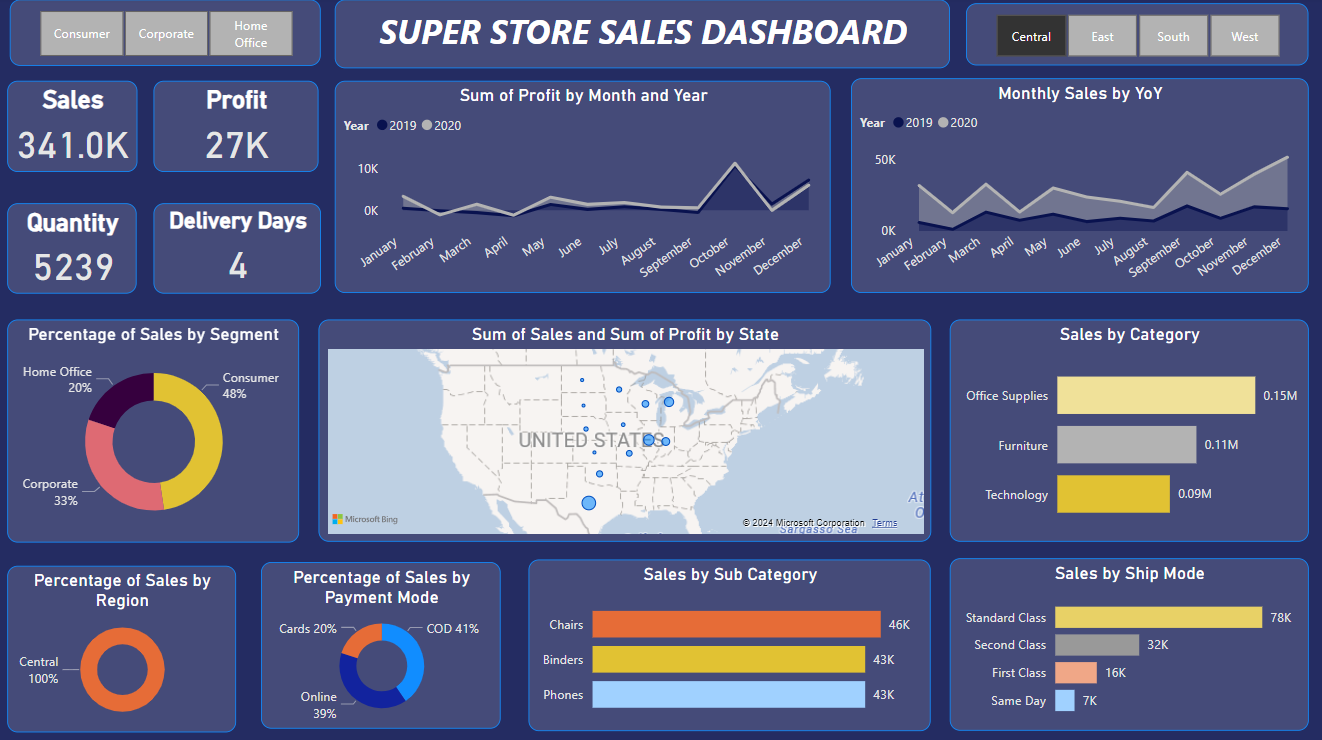

The dashboard page shown, as its layout file describes it:
{"tool":"powerbi","page":{"name":"Page 1","canvas":[1280,720],"ordinal":0},"visuals":[{"type":"clusteredBarChart","title":"Sales by Category","fields":{"Category":["SuperStore_Sales_Dataset.Category"],"Y":["Sum(SuperStore_Sales_Dataset.Sales)"]},"box":[920.2,311.2,346.1,214.7],"z":0},{"type":"clusteredBarChart","title":"Sales by Sub Category","fields":{"Category":["SuperStore_Sales_Dataset.Sub-Category"],"Y":["Sum(SuperStore_Sales_Dataset.Sales)"]},"box":[513.8,542.7,388.3,165.2],"z":1000},{"type":"clusteredBarChart","title":"Sales by Ship Mode","fields":{"Category":["SuperStore_Sales_Dataset.Ship Mode"],"Y":["Sum(SuperStore_Sales_Dataset.Sales)"]},"box":[920,541.2,346.2,166.2],"z":2000},{"type":"stackedAreaChart","title":"Monthly Sales by YoY","fields":{"Y":["Sum(SuperStore_Sales_Dataset.Sales)"],"Category":["SuperStore_Sales_Dataset.Order Date.Variation.Date Hierarchy.Month","SuperStore_Sales_Dataset.Order Date.Variation.Date Hierarchy.Day"],"Series":["SuperStore_Sales_Dataset.Order Date.Variation.Date Hierarchy.Year"]},"box":[825,78.8,441.2,207.5],"z":3000},{"type":"stackedAreaChart","fields":{"Category":["SuperStore_Sales_Dataset.Order Date.Variation.Date Hierarchy.Month","SuperStore_Sales_Dataset.Order Date.Variation.Date Hierarchy.Day"],"Series":["SuperStore_Sales_Dataset.Order Date.Variation.Date Hierarchy.Year"],"Y":["Sum(SuperStore_Sales_Dataset.Profit)"]},"box":[326.2,81.2,478.8,205],"z":4000},{"type":"map","fields":{"Category":["SuperStore_Sales_Dataset.State"],"Size":["Sum(SuperStore_Sales_Dataset.Sales)"]},"box":[311.2,311.2,591,214.7],"z":5000},{"type":"donutChart","title":"Percentage of Sales by Segment","fields":{"Category":["SuperStore_Sales_Dataset.Segment"],"Y":["Sum(SuperStore_Sales_Dataset.Sales)"]},"box":[11.2,311.2,281.2,215],"z":6000},{"type":"donutChart","title":"Percentage of Sales by Payment Mode","fields":{"Category":["SuperStore_Sales_Dataset.Payment Mode"],"Y":["Sum(SuperStore_Sales_Dataset.Sales)"]},"box":[255.7,545.1,231.6,160.4],"z":7000},{"type":"slicer","fields":{"Values":["SuperStore_Sales_Dataset.Region"]},"box":[936.2,6.2,330,60],"z":8000},{"type":"textbox","box":[326.2,2.5,593.8,66.2],"z":9000},{"type":"card","title":"Sales","fields":{"Values":["Sum(SuperStore_Sales_Dataset.Sales)"]},"box":[11.2,81.2,125,87.5],"z":10000},{"type":"card","title":"Quantity","fields":{"Values":["Sum(SuperStore_Sales_Dataset.Quantity)"]},"box":[11.2,198.8,125,87.5],"z":11000},{"type":"card","title":"Profit","fields":{"Values":["Sum(SuperStore_Sales_Dataset.Profit)"]},"box":[161.2,81.2,152.5,87.5],"z":12000},{"type":"card","title":"Delivery Days","fields":{"Values":["Avg(SuperStore_Sales_Dataset.AvgDelievery)"]},"box":[162.5,198.8,151.2,87.5],"z":13000},{"type":"donutChart","title":"Percentage of Sales by Region","fields":{"Category":["SuperStore_Sales_Dataset.Region"],"Y":["Sum(SuperStore_Sales_Dataset.Sales)"]},"box":[10.9,548.7,220.7,160.4],"z":14000},{"type":"slicer","fields":{"Values":["SuperStore_Sales_Dataset.Segment"]},"box":[11.2,2.5,300,63.8],"z":15000}]}

Visuals, with their boxes in screenshot pixels (x1, y1, x2, y2), scaled from the page's 1280x720 canvas onto the 1322x740 screenshot:
"Sales by Category" clusteredBarChart: rect(950, 320, 1308, 541)
"Sales by Sub Category" clusteredBarChart: rect(531, 558, 932, 728)
"Sales by Ship Mode" clusteredBarChart: rect(950, 556, 1308, 727)
"Monthly Sales by YoY" stackedAreaChart: rect(852, 81, 1308, 294)
stackedAreaChart - SuperStore_Sales_Dataset.Order Date.Variation.Date Hierarchy.Month x SuperStore_Sales_Dataset.Order Date.Variation.Date Hierarchy.Day: rect(337, 83, 831, 294)
map - SuperStore_Sales_Dataset.State x Sum(SuperStore_Sales_Dataset.Sales): rect(321, 320, 932, 541)
"Percentage of Sales by Segment" donutChart: rect(12, 320, 302, 541)
"Percentage of Sales by Payment Mode" donutChart: rect(264, 560, 503, 725)
slicer - SuperStore_Sales_Dataset.Region: rect(967, 6, 1308, 68)
textbox: rect(337, 3, 950, 71)
"Sales" card: rect(12, 83, 141, 173)
"Quantity" card: rect(12, 204, 141, 294)
"Profit" card: rect(166, 83, 324, 173)
"Delivery Days" card: rect(168, 204, 324, 294)
"Percentage of Sales by Region" donutChart: rect(11, 564, 239, 729)
slicer - SuperStore_Sales_Dataset.Segment: rect(12, 3, 321, 68)
